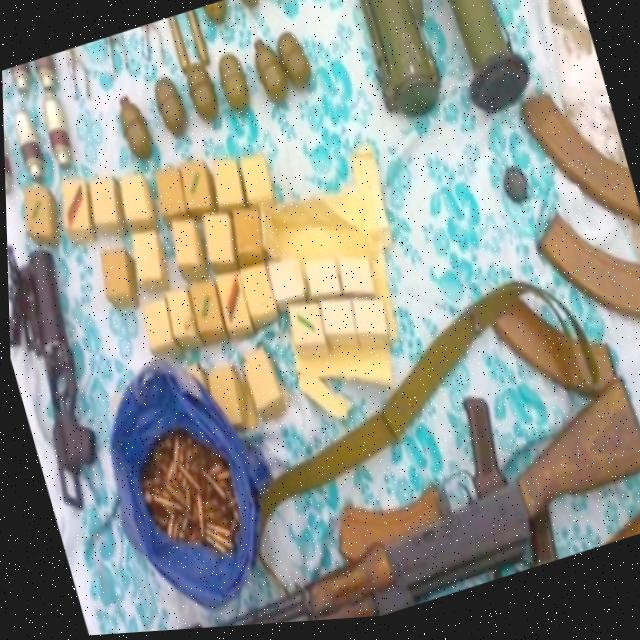firearm: (52, 354, 640, 638), (6, 232, 119, 519)
grenade: (97, 81, 150, 155), (247, 34, 293, 113), (209, 45, 256, 121), (146, 67, 193, 142), (178, 56, 225, 129), (36, 92, 75, 172), (272, 33, 314, 100), (9, 112, 46, 183), (3, 114, 18, 196), (33, 55, 59, 95), (8, 63, 33, 96)
rocket: (344, 0, 454, 132), (423, 0, 536, 122)
